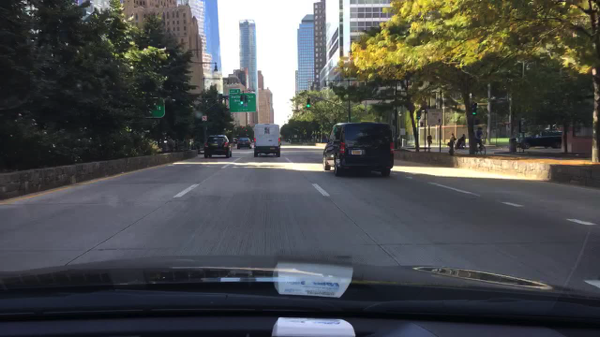bike: (471, 139, 486, 156)
car: (322, 120, 392, 180), (514, 128, 561, 150), (203, 134, 231, 159), (236, 137, 251, 150)
person: (426, 133, 433, 147), (450, 133, 456, 147), (460, 134, 466, 148)
rider: (474, 126, 483, 148)
traffic light: (471, 104, 477, 115), (240, 94, 244, 105), (417, 111, 421, 121), (307, 97, 310, 106), (241, 92, 243, 104), (246, 94, 248, 105)
traffic sign: (228, 94, 257, 113), (143, 97, 163, 119), (228, 89, 240, 94), (201, 115, 208, 120)
truck: (252, 121, 280, 158)
